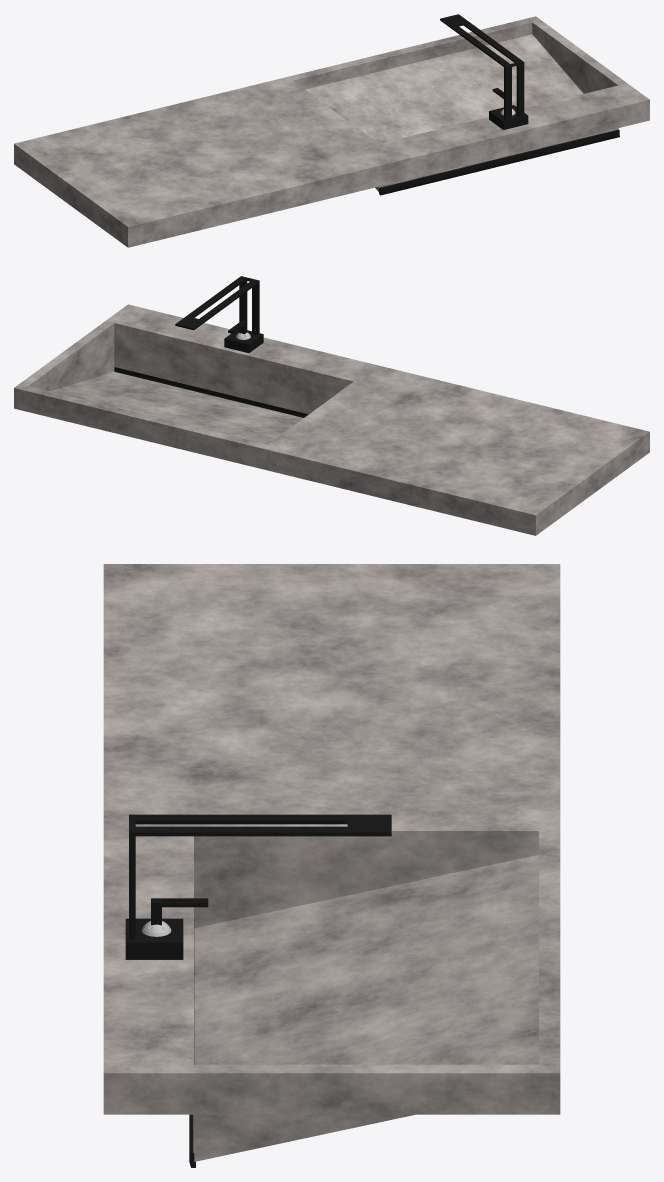
File: sink.fbx
3 views of the same model, one above another, from view 1: azimuth 30°, elevation 25°; view 2: azimuth 150°, elevation 25°; view 3: azimuth 270°, elevation 25° (orthographic). The views are drawn at different scales.
Parts seen in each view (by area): view 1: sink_Baked; view 2: sink_Baked; view 3: sink_Baked.
Boxes of the visible parts, bbox=[...] form: sink_Baked: bbox=[14, 14, 649, 247]; sink_Baked: bbox=[14, 276, 649, 535]; sink_Baked: bbox=[103, 564, 560, 1167].
Bounding box in the file's own units: 132 × 27.39 × 50.
Materials: 1 (1 with a texture image).
